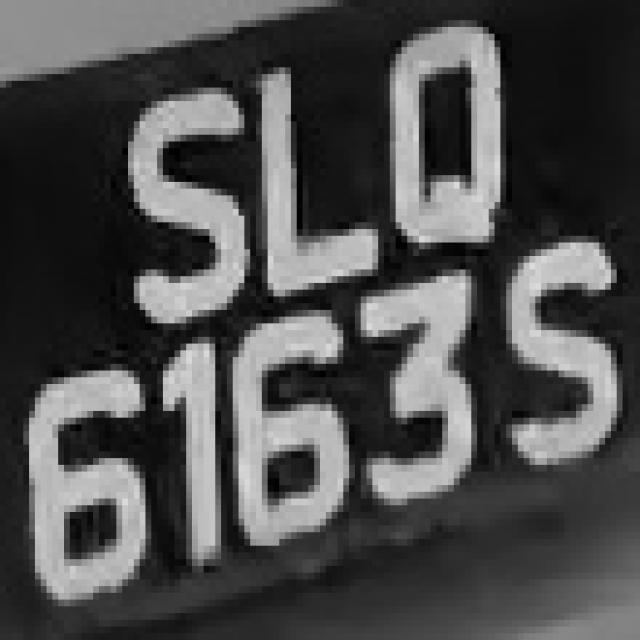1: (157, 316, 233, 572)
3: (332, 256, 483, 519)
6: (18, 357, 157, 620), (227, 296, 355, 566)
L: (215, 47, 384, 303)
Q: (361, 13, 524, 256)
S: (122, 68, 262, 344), (489, 229, 634, 472)
